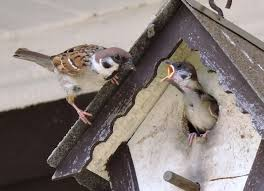hsparrow: (9, 38, 136, 128)
